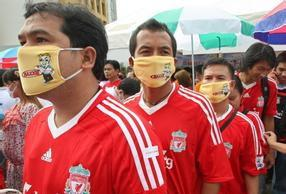NONE: (250, 64, 272, 83), (278, 66, 286, 84), (105, 66, 115, 80)
OK: (18, 29, 79, 96), (133, 44, 174, 88), (201, 74, 232, 103), (7, 80, 20, 99)
